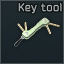Key tool: (0, 0, 64, 64)
